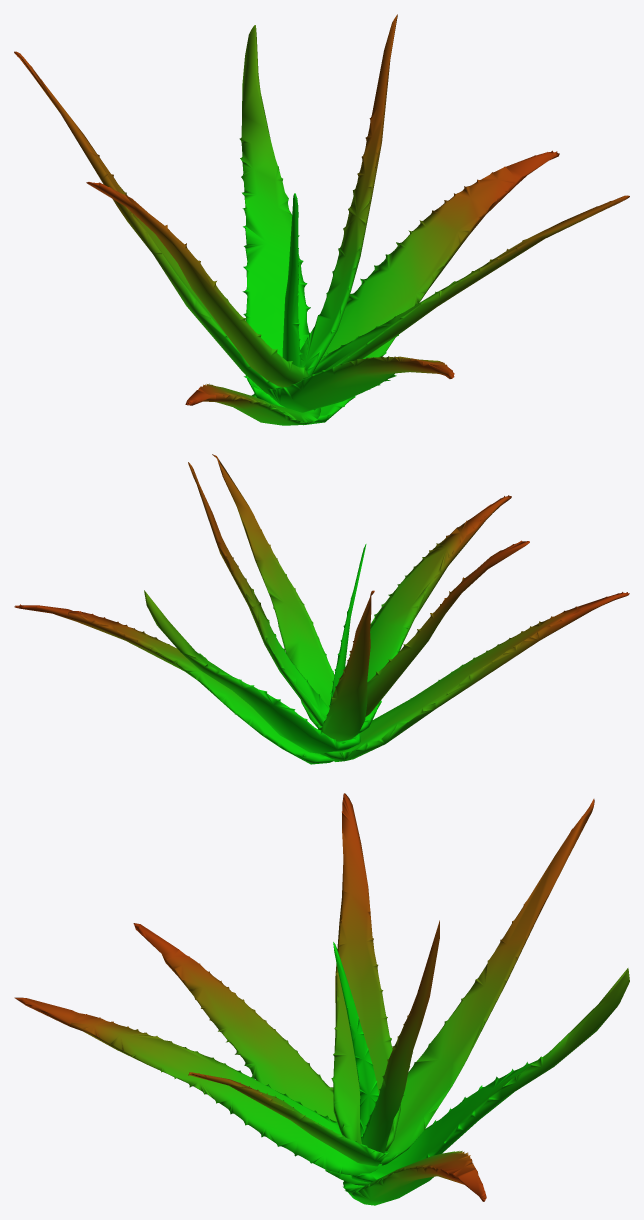
File: Aloe Vera_LOD3_Var12_ve4tbbrha.fbx
3 views of the same model, one above another, from view 1: azimuth 30°, elevation 25°; view 2: azimuth 150°, elevation 25°; view 3: azimuth 270°, elevation 25° (orthographic). The views are drawn at different scales.
Visible parts, largest first — view 1: _bsvs_Var12_LOD3; view 2: _bsvs_Var12_LOD3; view 3: _bsvs_Var12_LOD3.
Part boxes in pixels (x1=…): _bsvs_Var12_LOD3: x1=14, y1=14, x2=629, y2=425; _bsvs_Var12_LOD3: x1=14, y1=454, x2=629, y2=764; _bsvs_Var12_LOD3: x1=14, y1=793, x2=629, y2=1205.
Bounding box in the file's own units: 46.68 × 28.26 × 46.54.
